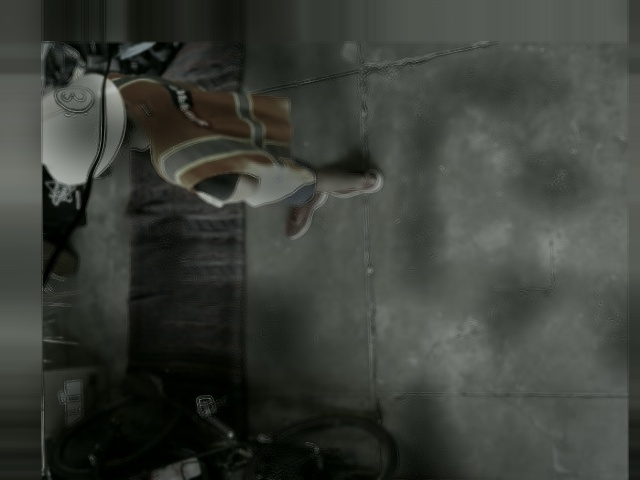three: (53, 85, 93, 112)
